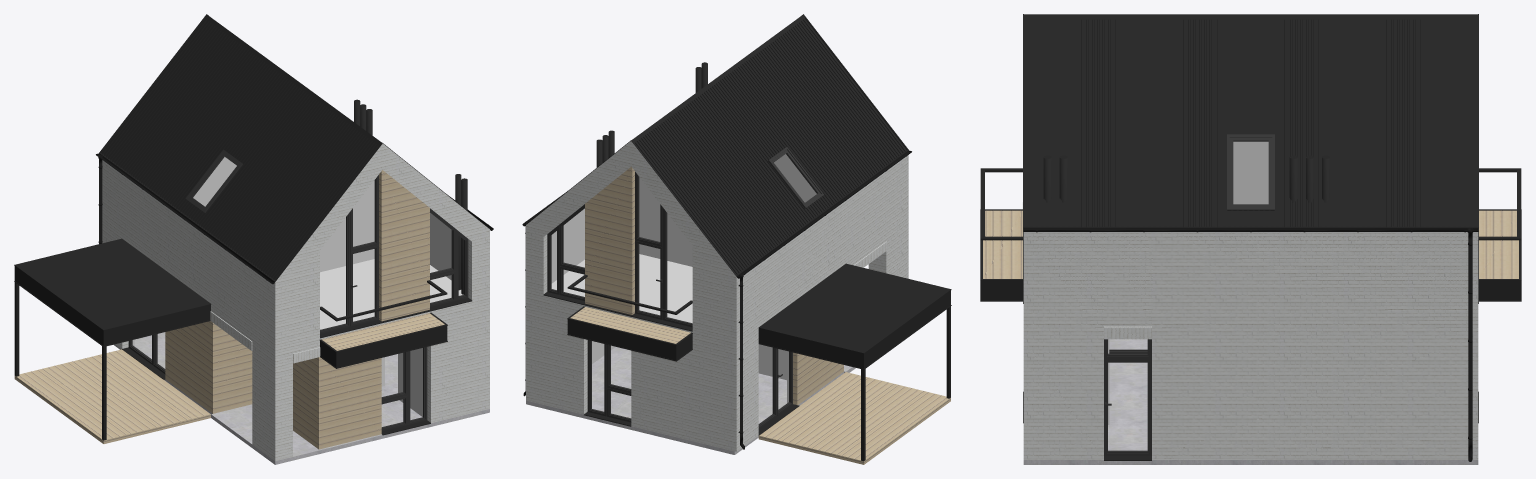
The picture shows the model from 3 angles, left to right: view 1: azimuth 30°, elevation 25°; view 2: azimuth 150°, elevation 25°; view 3: azimuth 270°, elevation 25°; orthographic projection. The views are drawn at different scales.
Visible parts, largest first — view 1: Sketchup; view 2: Sketchup; view 3: Sketchup.
Part boxes in pixels (x1,y1,x2,y2): Sketchup: (14,14,493,464); Sketchup: (522,14,951,464); Sketchup: (980,14,1521,464).
Size of what is drawn, in the model's own units: 9.15 by 7.9 by 10.12.
8 materials, 3 textured.
